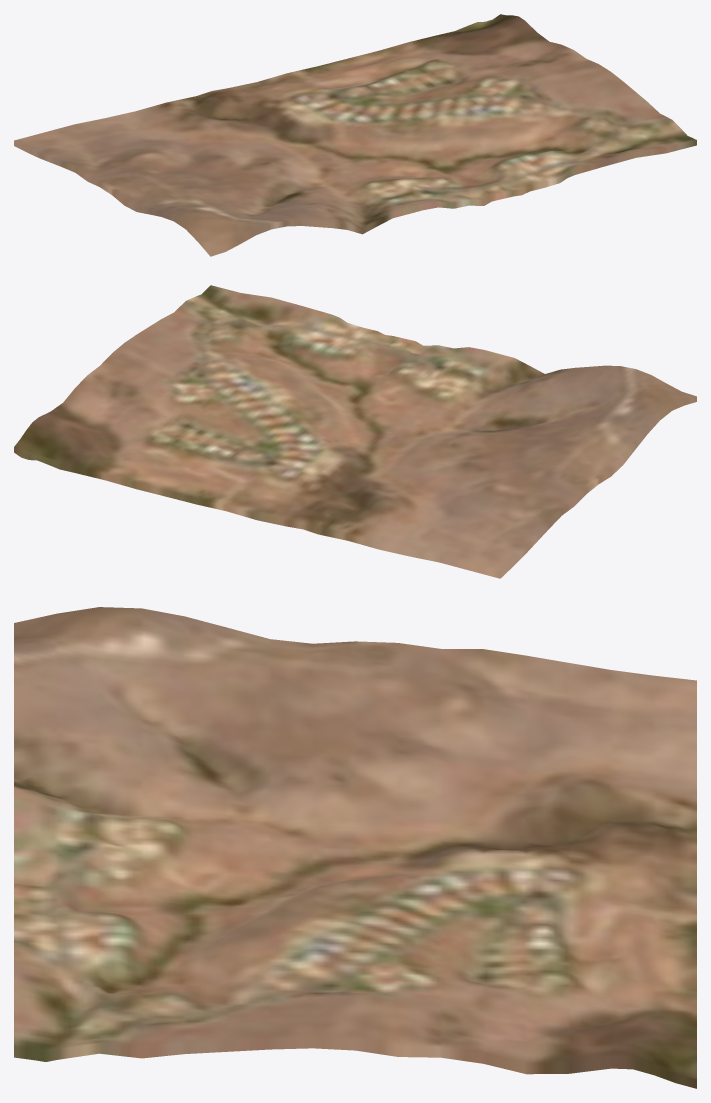
File: terrain_r6_c3_lod2.glb
The picture shows the model from 3 angles, top to bottom: view 1: azimuth 30°, elevation 25°; view 2: azimuth 150°, elevation 25°; view 3: azimuth 270°, elevation 25°; orthographic projection. The views are drawn at different scales.
Parts seen in each view (by area): view 1: terrain_r6_c3_lod2; view 2: terrain_r6_c3_lod2; view 3: terrain_r6_c3_lod2.
Boxes of the visible parts, <box> form: terrain_r6_c3_lod2: <box>14,14,696,256</box>; terrain_r6_c3_lod2: <box>14,285,696,578</box>; terrain_r6_c3_lod2: <box>14,607,696,1088</box>.
Size of the model in its own units: 1125 by 114 by 787.
Materials: 1 (1 with a texture image).
